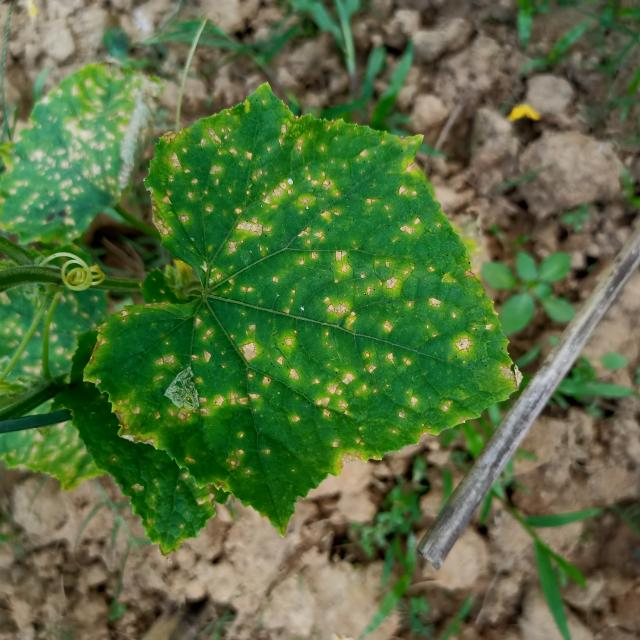disease_cucumber: (94, 122, 511, 480)
